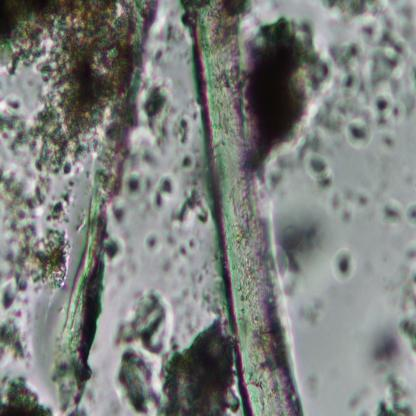Background material: (0, 0, 133, 362), (243, 11, 332, 166), (310, 25, 416, 146), (115, 313, 238, 415), (102, 146, 154, 263), (144, 182, 210, 269), (363, 332, 416, 415), (275, 207, 329, 282), (143, 80, 196, 154), (391, 245, 416, 354), (128, 297, 174, 354), (0, 373, 55, 415), (328, 184, 375, 225), (154, 23, 191, 74), (323, 2, 387, 23), (296, 289, 331, 327), (329, 243, 357, 289), (300, 150, 332, 190), (343, 376, 372, 416), (382, 196, 416, 226), (153, 163, 177, 204), (175, 147, 204, 178)
Cellulose filter fibre: (56, 4, 154, 416)
Microfibre: (187, 1, 302, 415)
